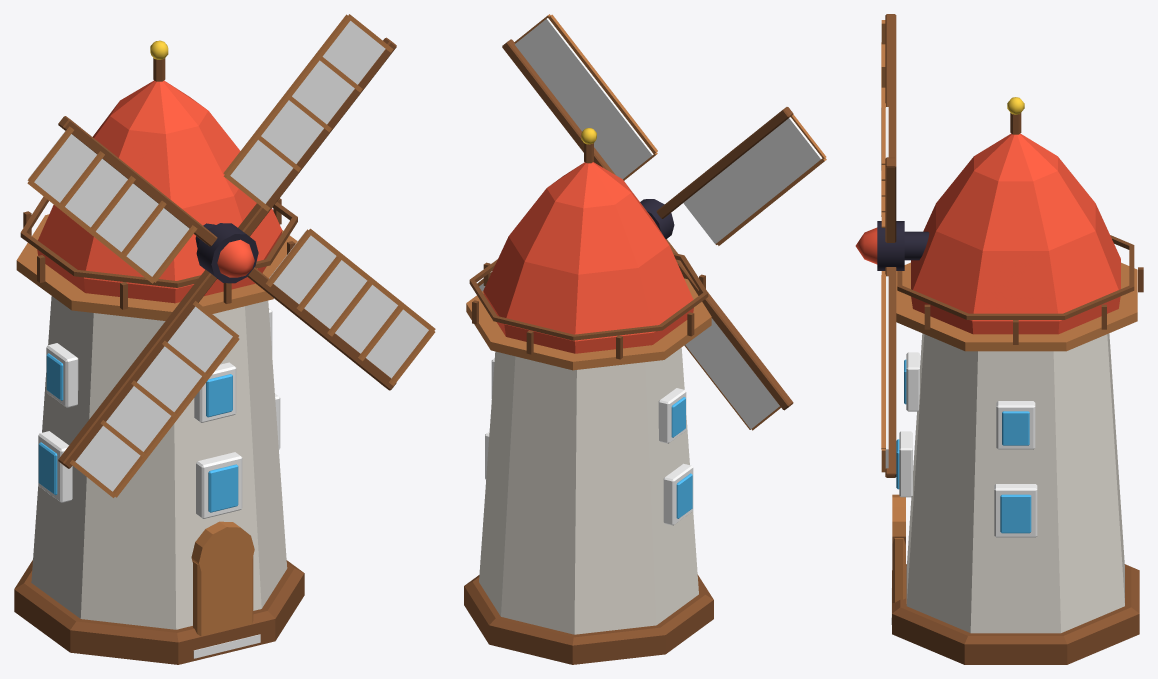
File: windmill.glb
The picture shows the model from 3 angles, left to right: view 1: azimuth 30°, elevation 25°; view 2: azimuth 150°, elevation 25°; view 3: azimuth 270°, elevation 25°; orthographic projection. The views are drawn at different scales.
Visible parts, largest first — view 1: windmill, BLADES; view 2: windmill, BLADES; view 3: windmill, BLADES.
Part boxes in pixels (left/top/right/bottom): windmill: left=14, top=40, right=304, bottom=664; BLADES: left=27, top=14, right=435, bottom=497; windmill: left=464, top=128, right=713, bottom=664; BLADES: left=477, top=14, right=826, bottom=430; windmill: left=891, top=97, right=1143, bottom=664; BLADES: left=855, top=14, right=904, bottom=477.
Size of the model in its own units: 9.45 by 13.62 by 6.34.
